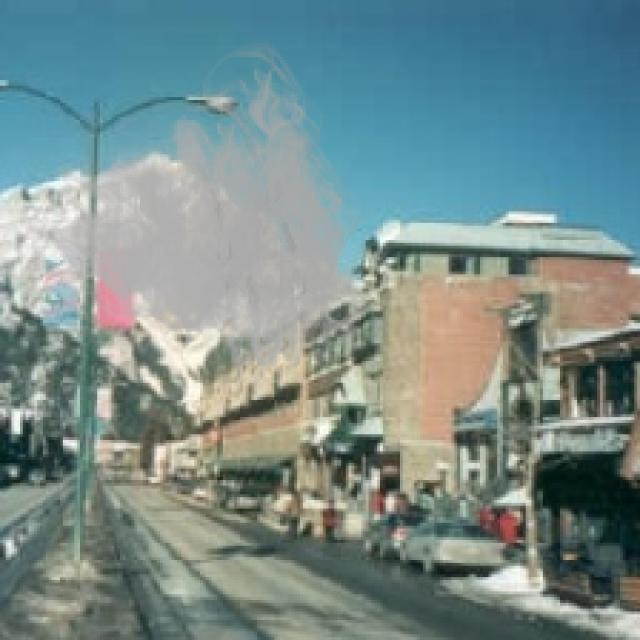smoke: (20, 37, 383, 400)
